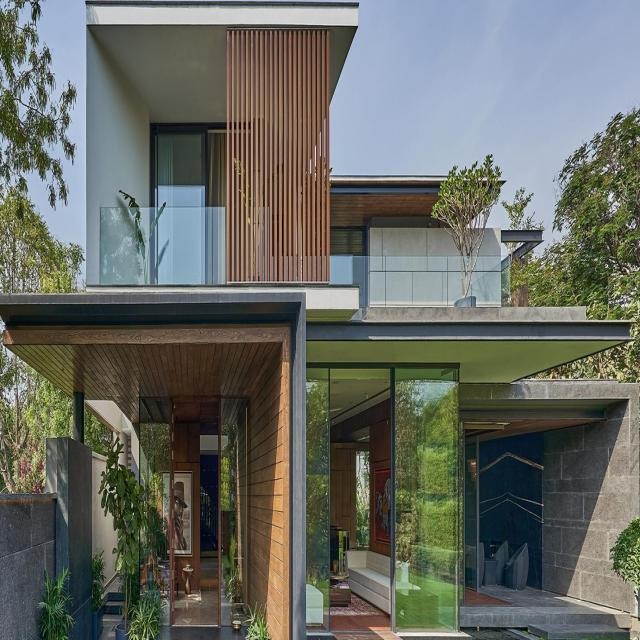Railing: (0, 3, 83, 289), (99, 207, 228, 290), (330, 257, 510, 305)
door: (139, 399, 251, 631), (392, 362, 461, 632), (307, 363, 331, 624)
plant: (512, 104, 640, 312), (98, 447, 168, 587), (429, 161, 503, 248), (36, 565, 76, 639), (612, 515, 640, 587)
wall: (0, 0, 639, 639)
windows: (148, 122, 224, 203), (331, 229, 367, 252)
